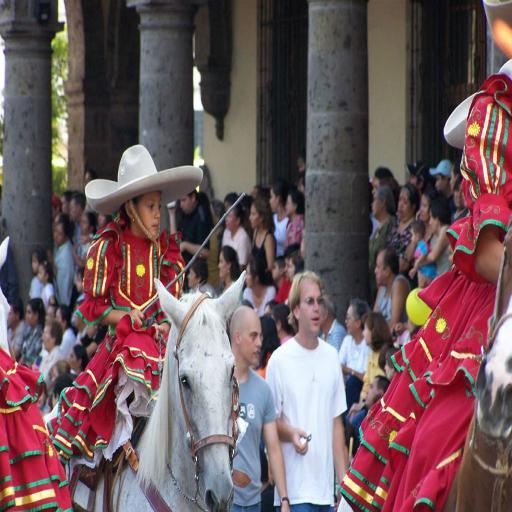Horse: (42, 268, 248, 511), (441, 212, 512, 512)
